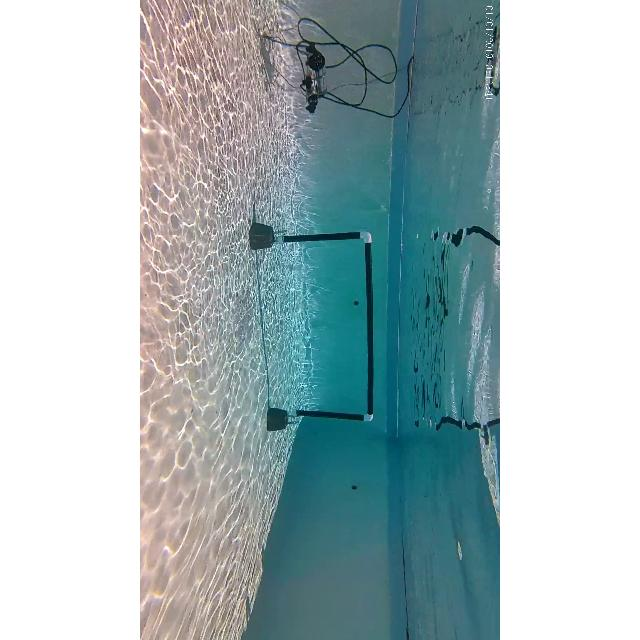prequal gate: (278, 230, 372, 422)
prequal gate leg l: (274, 228, 376, 248)
prequal gate leg r: (281, 403, 377, 427)
